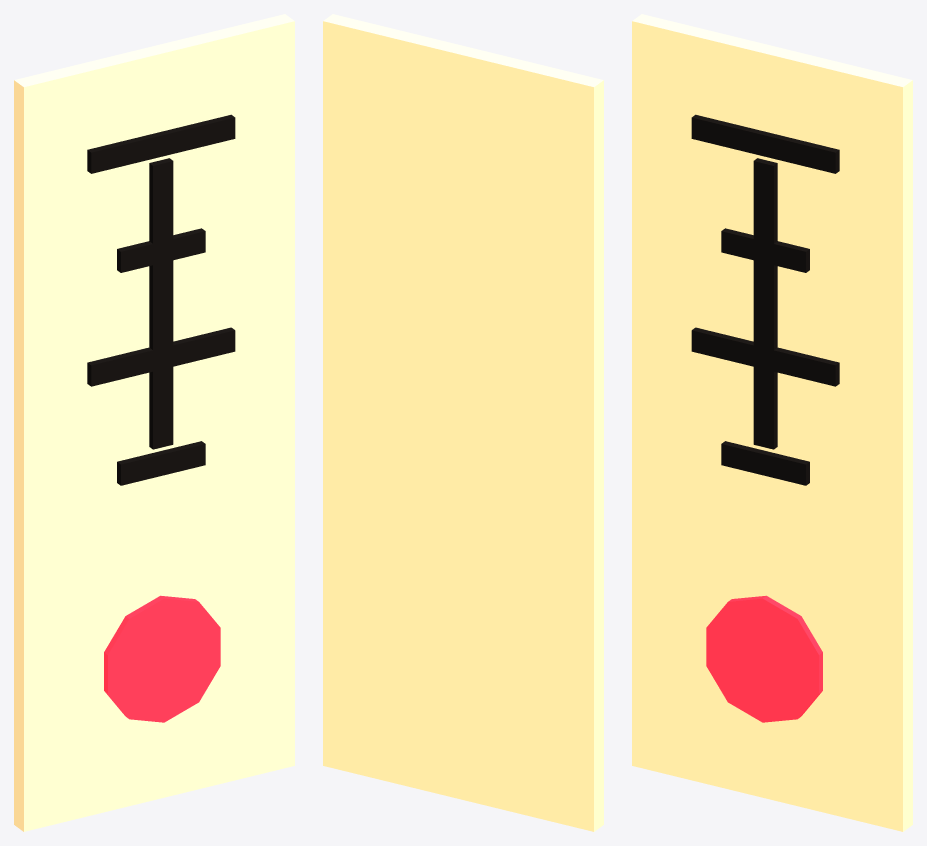
File: ofuda.glb
3 renders of one model, left to right at view 1: azimuth 30°, elevation 25°; view 2: azimuth 150°, elevation 25°; view 3: azimuth 330°, elevation 25°, orthographic.
Parts seen in each view (by area): view 1: Ofuda; view 2: Ofuda; view 3: Ofuda.
Part boxes in pixels (box(x1,y1,x2,y2)): Ofuda: box(14, 14, 294, 831); Ofuda: box(323, 14, 603, 831); Ofuda: box(632, 14, 912, 831).
Size of the model in its own units: 0.16 by 0.42 by 0.015.
